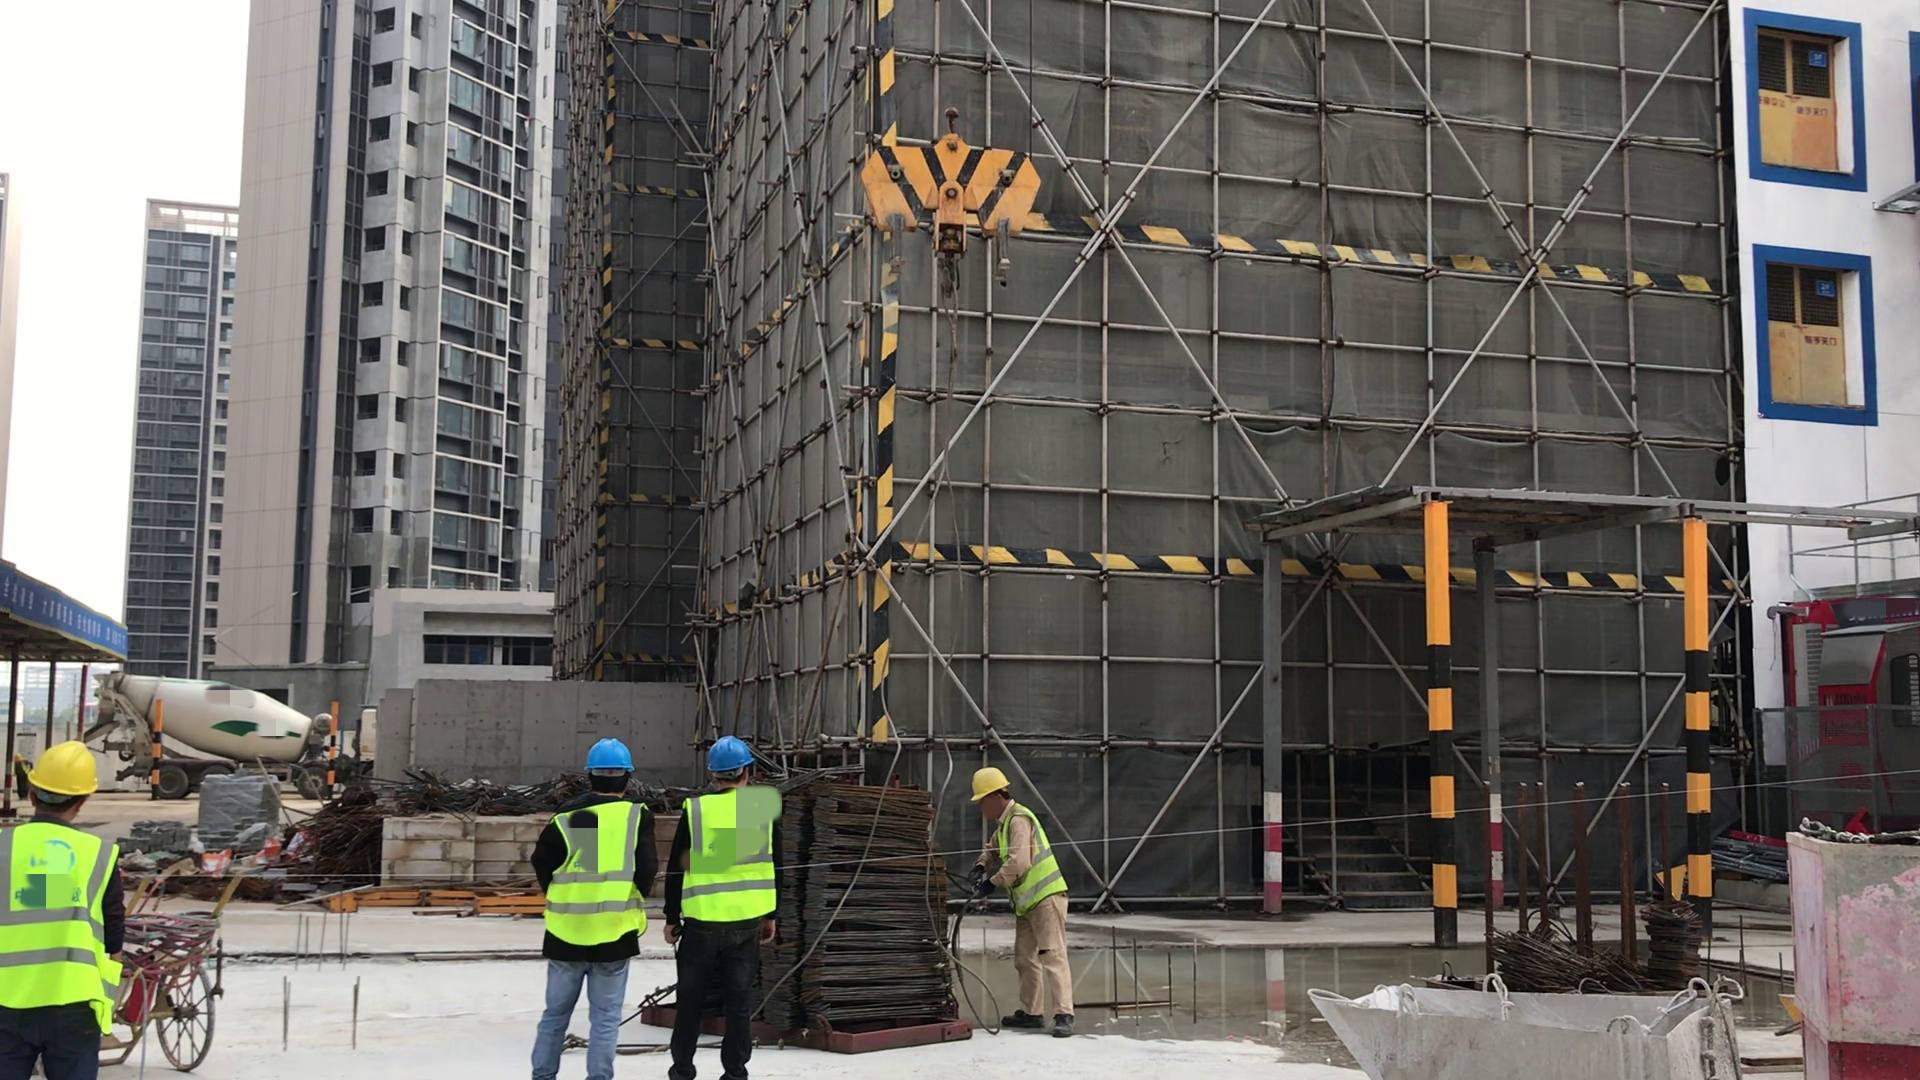handcart: (125, 861, 252, 1071)
helmet: (25, 741, 106, 802), (580, 737, 633, 776), (707, 739, 754, 772), (971, 768, 1008, 804), (15, 753, 22, 762)
hook: (859, 105, 1044, 301)
hopper: (1300, 968, 1766, 1080)
person: (521, 741, 664, 1080), (1, 737, 135, 1080), (666, 737, 794, 1080), (960, 765, 1086, 1041), (15, 752, 31, 804)
slogan: (4, 561, 126, 661)
vest: (3, 817, 123, 1043), (540, 800, 654, 952), (682, 791, 780, 926), (991, 805, 1073, 916)
